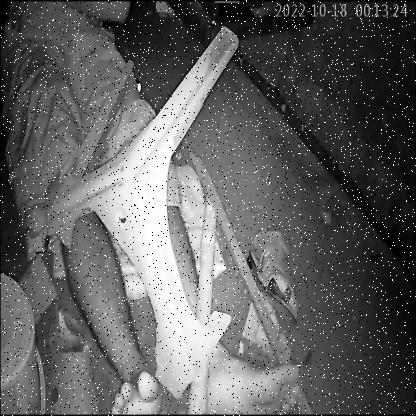leg: (55, 217, 167, 416), (201, 335, 304, 416)
